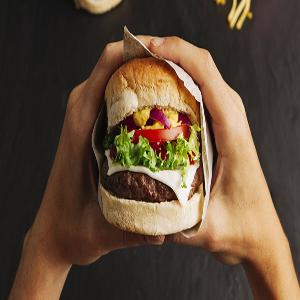cheeseburger: (96, 55, 216, 245)
